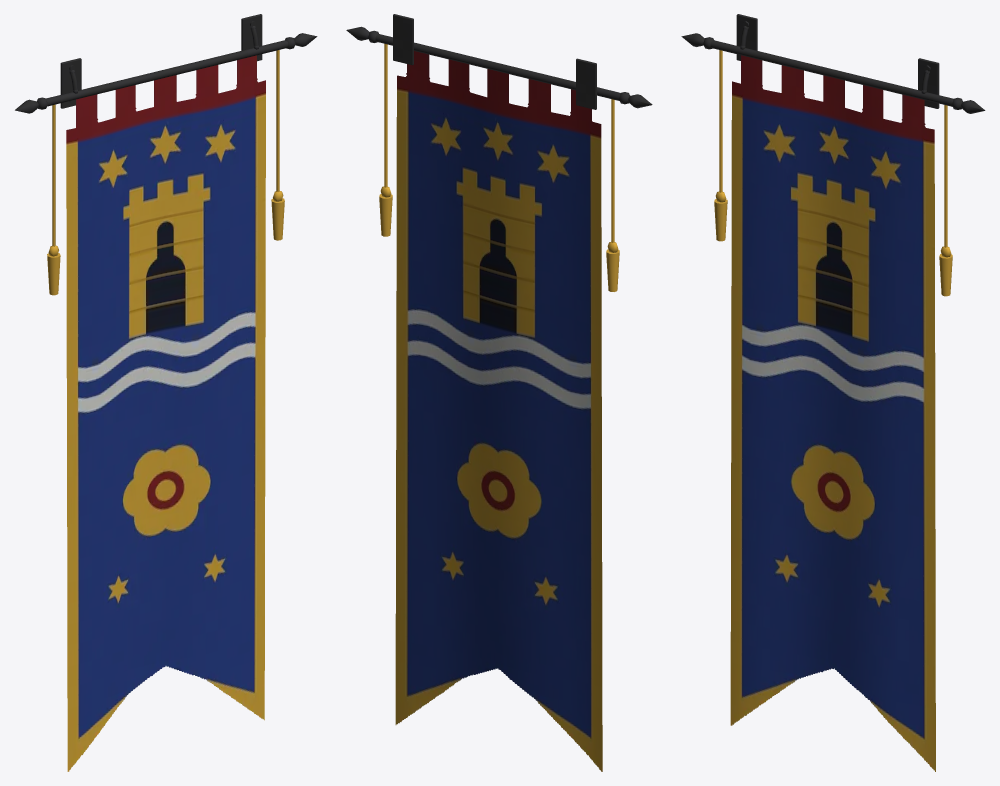
The model's file is banner.glb.
The picture shows the model from 3 angles, left to right: view 1: azimuth 30°, elevation 25°; view 2: azimuth 150°, elevation 25°; view 3: azimuth 330°, elevation 25°; orthographic projection.
Visible parts, largest first — view 1: prop; view 2: prop; view 3: prop.
Boxes of the visible parts, <box> form: prop: <box>15,14,317,771</box>; prop: <box>346,14,652,771</box>; prop: <box>681,14,985,771</box>.
Size of what is drawn, in the model's own units: 0.906 by 2.01 by 0.045.
Materials: 3 (2 with a texture image).
